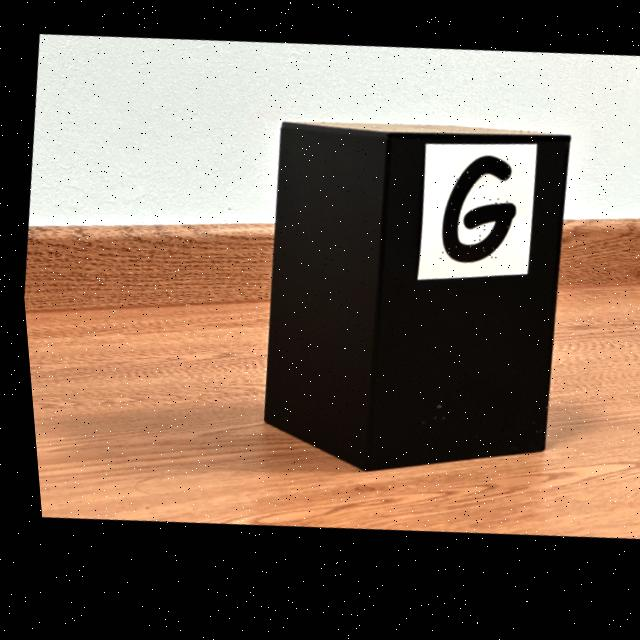G: (437, 166, 512, 272)
